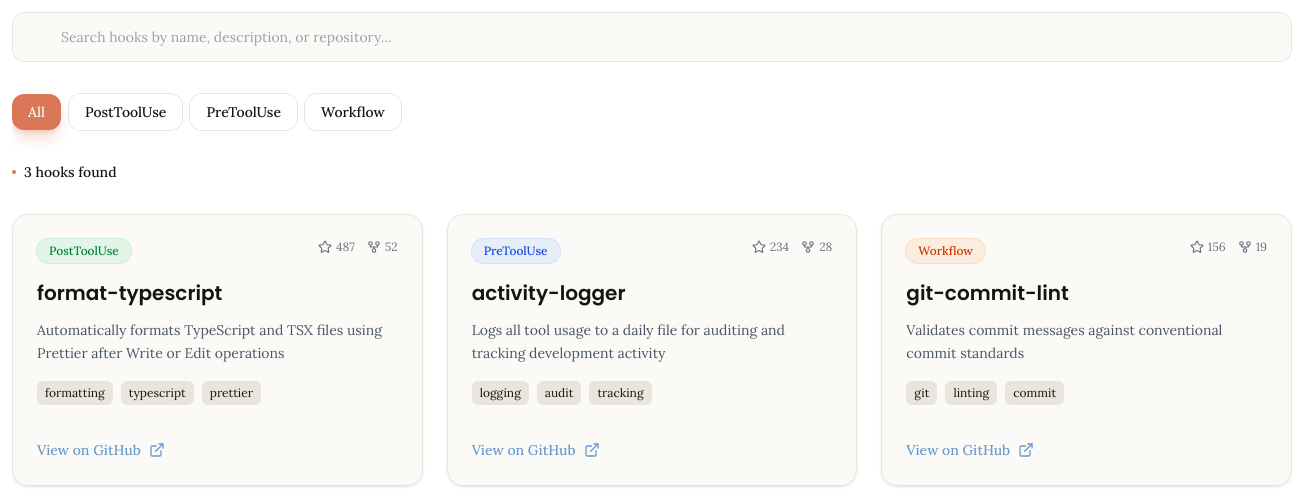
it: HookGrid Component › filters hooks by category when category is selected
Click the button "PostToolUse": (126, 112) [69, 94, 182, 130]
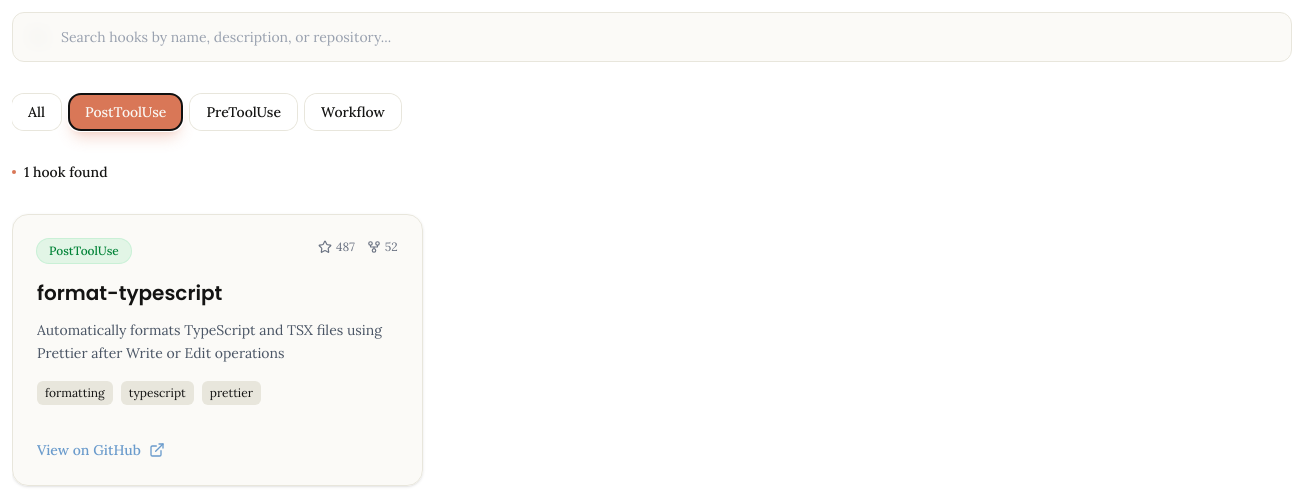
Expected: the heading "activity-logger" is gone
Expected: the heading "git-commit-lint" is gone
Expected: the text "1 hook found" is shown, [24, 162, 108, 182]
